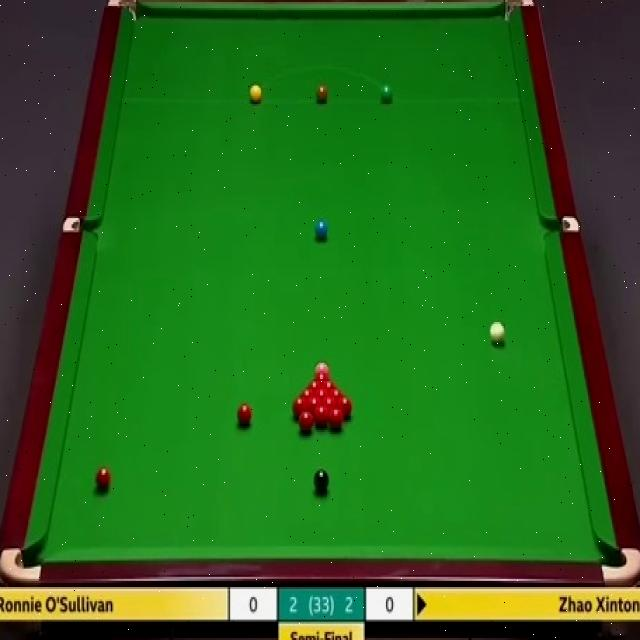black-ball: (313, 466, 329, 494)
blue-ball: (316, 220, 329, 243)
brown-ball: (317, 84, 329, 102)
green-ball: (381, 84, 392, 104)
pink-ball: (314, 358, 330, 375)
red-ball: (236, 404, 254, 429), (95, 465, 110, 493), (297, 412, 314, 436), (314, 405, 329, 429), (329, 409, 345, 431), (336, 397, 353, 417), (292, 397, 308, 418), (306, 396, 322, 412), (323, 398, 336, 416), (328, 389, 346, 399), (314, 389, 330, 400), (321, 381, 338, 391), (313, 372, 330, 381), (305, 381, 321, 390), (300, 390, 314, 400)
white-ball: (490, 319, 506, 344)
yellow-ball: (249, 83, 263, 104)
